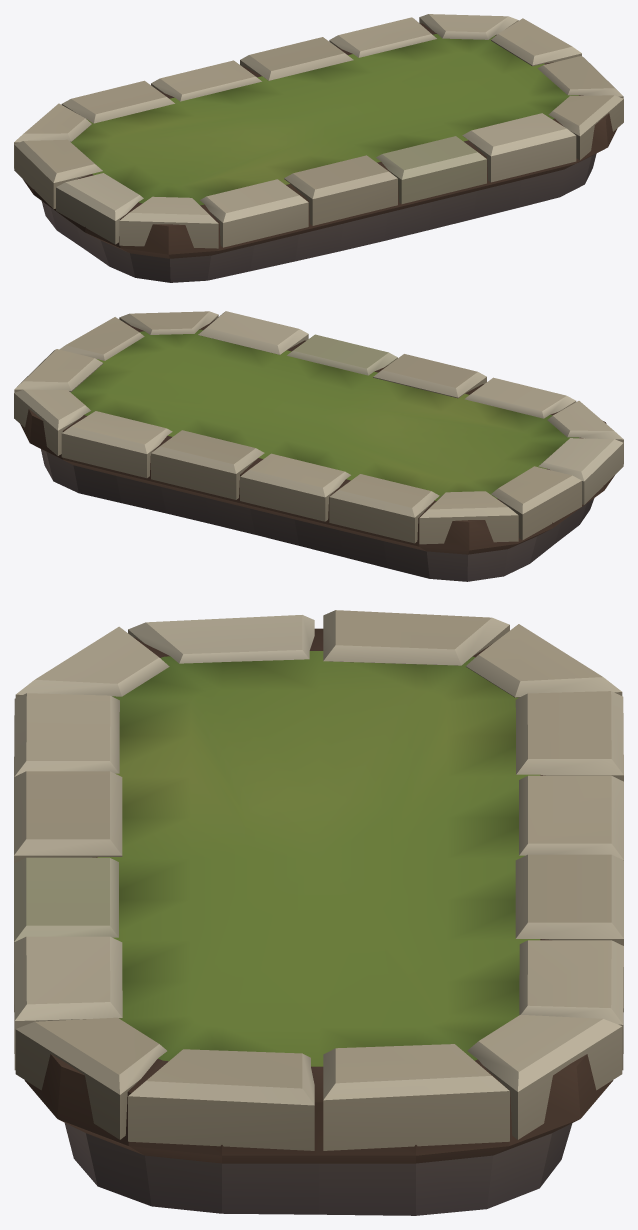
The model's file is plateforme_M.glb.
3 views of the same model, one above another, from view 1: azimuth 30°, elevation 25°; view 2: azimuth 150°, elevation 25°; view 3: azimuth 270°, elevation 25° (orthographic). The views are drawn at different scales.
Visible parts, largest first — view 1: plateforme_M; view 2: plateforme_M; view 3: plateforme_M.
Boxes of the visible parts, x1,y1,x2,y2 form: plateforme_M: [14, 14, 623, 282]; plateforme_M: [14, 311, 623, 581]; plateforme_M: [14, 610, 623, 1215].
Bounding box in the file's own units: 4.68 × 1.11 × 2.48.
